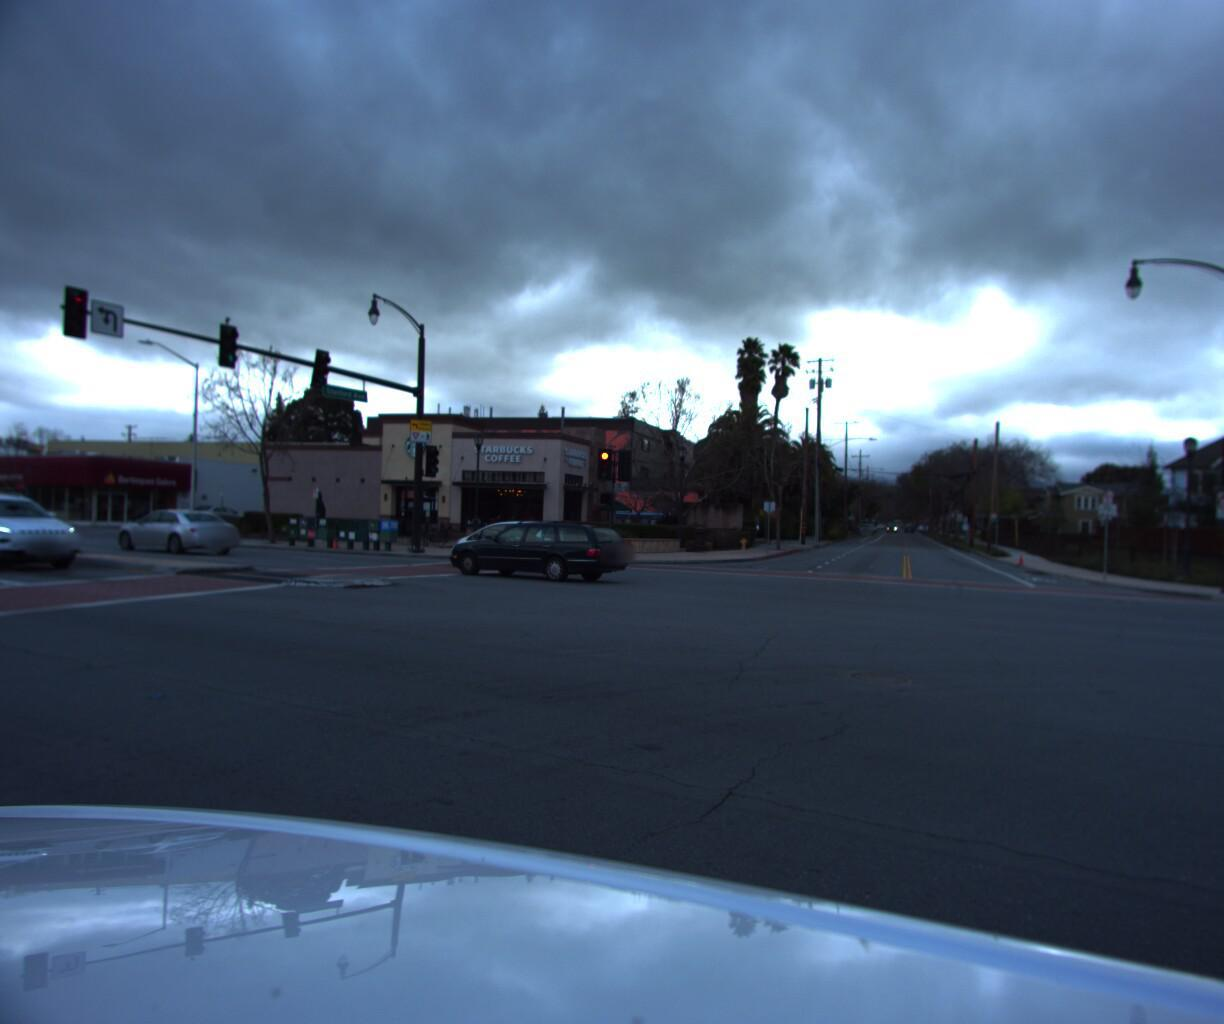car: (441, 514, 631, 585), (437, 520, 576, 578), (0, 493, 91, 577), (111, 513, 241, 562), (183, 508, 253, 539)
